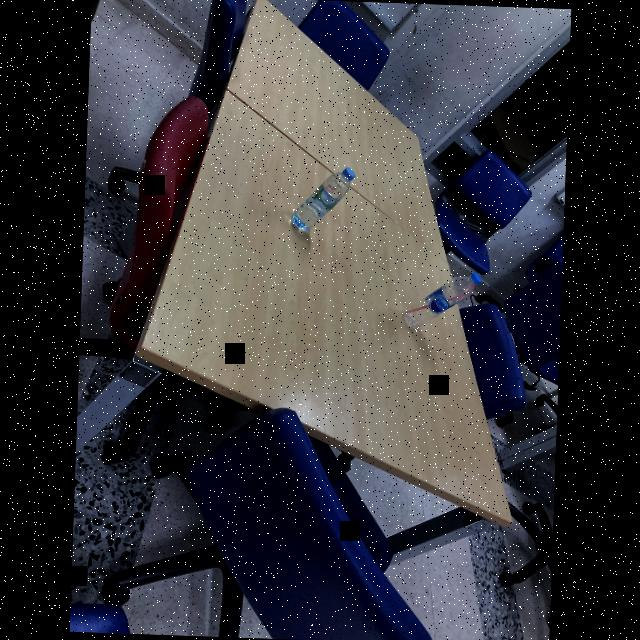plastic_bottle: (402, 266, 482, 336), (286, 162, 356, 240)
plastic_bottle_cap: (340, 166, 356, 182), (470, 272, 483, 286)
straw: (404, 278, 474, 318)
